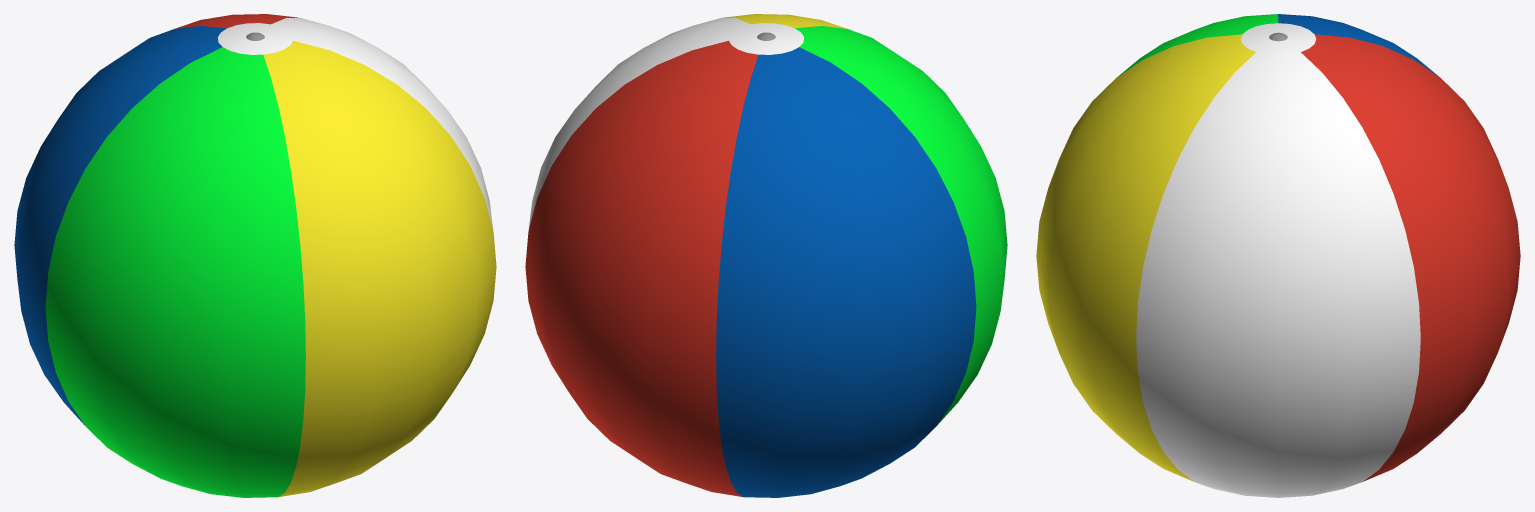
Rendered from SM_ball.fbx.
3 renders of one model, left to right at view 1: azimuth 30°, elevation 25°; view 2: azimuth 150°, elevation 25°; view 3: azimuth 270°, elevation 25°, orthographic.
Parts seen in each view (by area): view 1: ball; view 2: ball; view 3: ball.
Boxes of the visible parts, <box> form: ball: <box>14,14,496,497</box>; ball: <box>525,14,1007,497</box>; ball: <box>1036,14,1520,497</box>.
Bounding box in the file's own units: 47.97 × 48.22 × 47.97.
